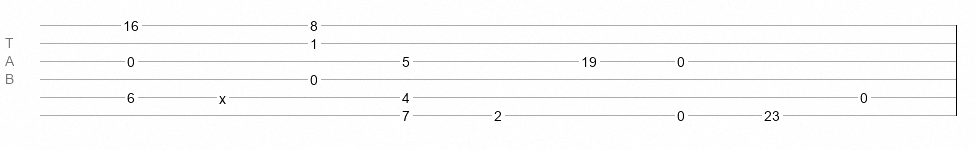0: (127, 54, 135, 64), (310, 72, 318, 82), (677, 54, 685, 64), (677, 108, 685, 118), (860, 90, 868, 100)
1: (310, 36, 318, 46)
16: (123, 18, 139, 28)
19: (581, 54, 597, 64)
2: (494, 108, 502, 118)
23: (764, 108, 780, 118)
4: (402, 90, 410, 100)
5: (402, 54, 410, 64)
6: (127, 90, 135, 100)
7: (402, 108, 410, 118)
8: (310, 18, 318, 28)
x: (219, 91, 226, 99)
